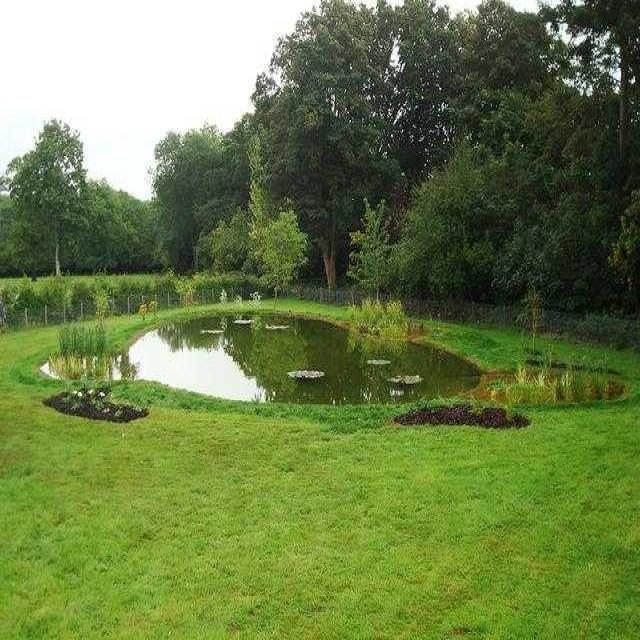Ponds: (42, 312, 483, 409)
